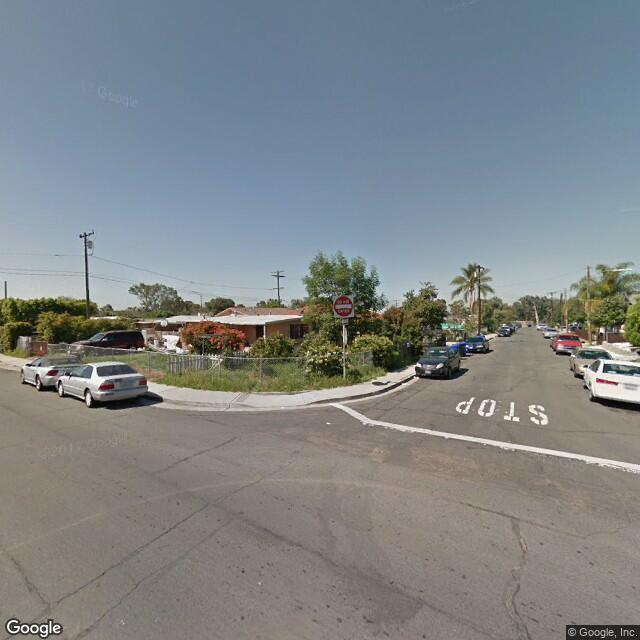litter: (322, 419, 333, 425)
